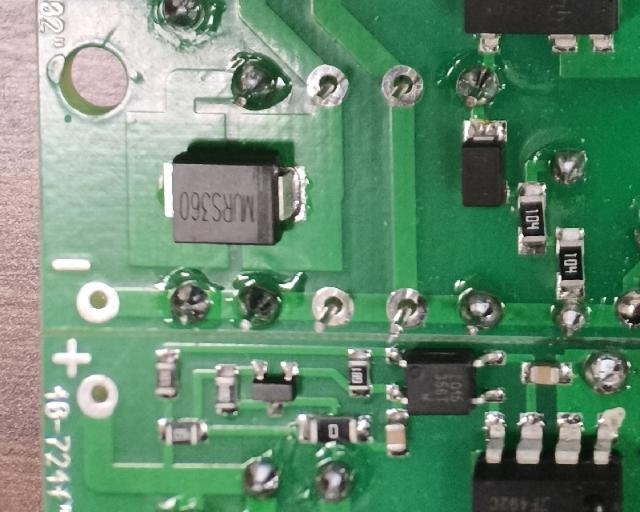chip-capacitor: (520, 359, 575, 386), (384, 416, 411, 459)
chip-resistor: (553, 225, 587, 301), (297, 413, 373, 445), (517, 180, 548, 257), (214, 364, 240, 418), (157, 417, 208, 444), (346, 347, 372, 398), (154, 347, 178, 400)
diode: (160, 151, 309, 247), (458, 117, 511, 208)
ic: (470, 406, 627, 512), (383, 342, 507, 416)
transistor: (250, 357, 300, 416)
